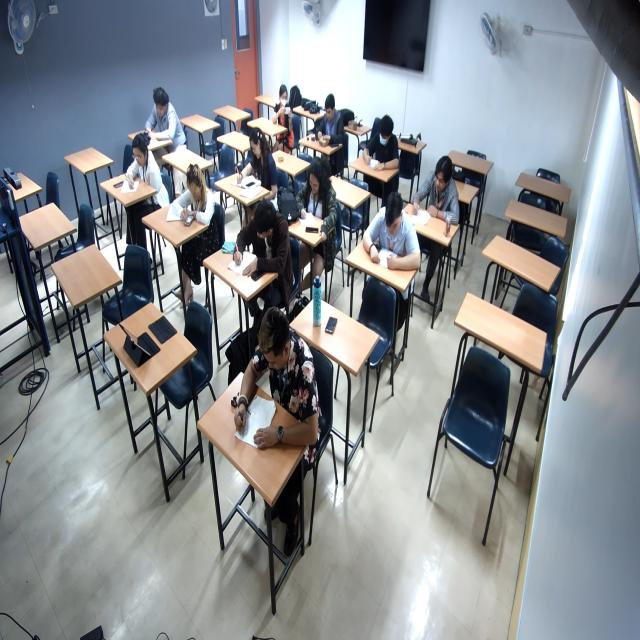read: (232, 315, 316, 462), (361, 188, 424, 278), (229, 208, 291, 283), (290, 163, 343, 239), (414, 159, 465, 230), (234, 135, 283, 204), (360, 109, 408, 175), (229, 131, 275, 194), (117, 138, 163, 200), (172, 166, 211, 237), (144, 85, 182, 146)
